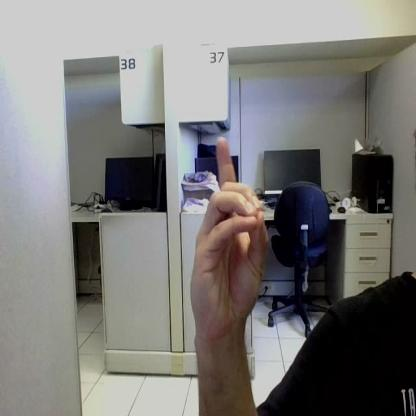D: (190, 136, 266, 314)
